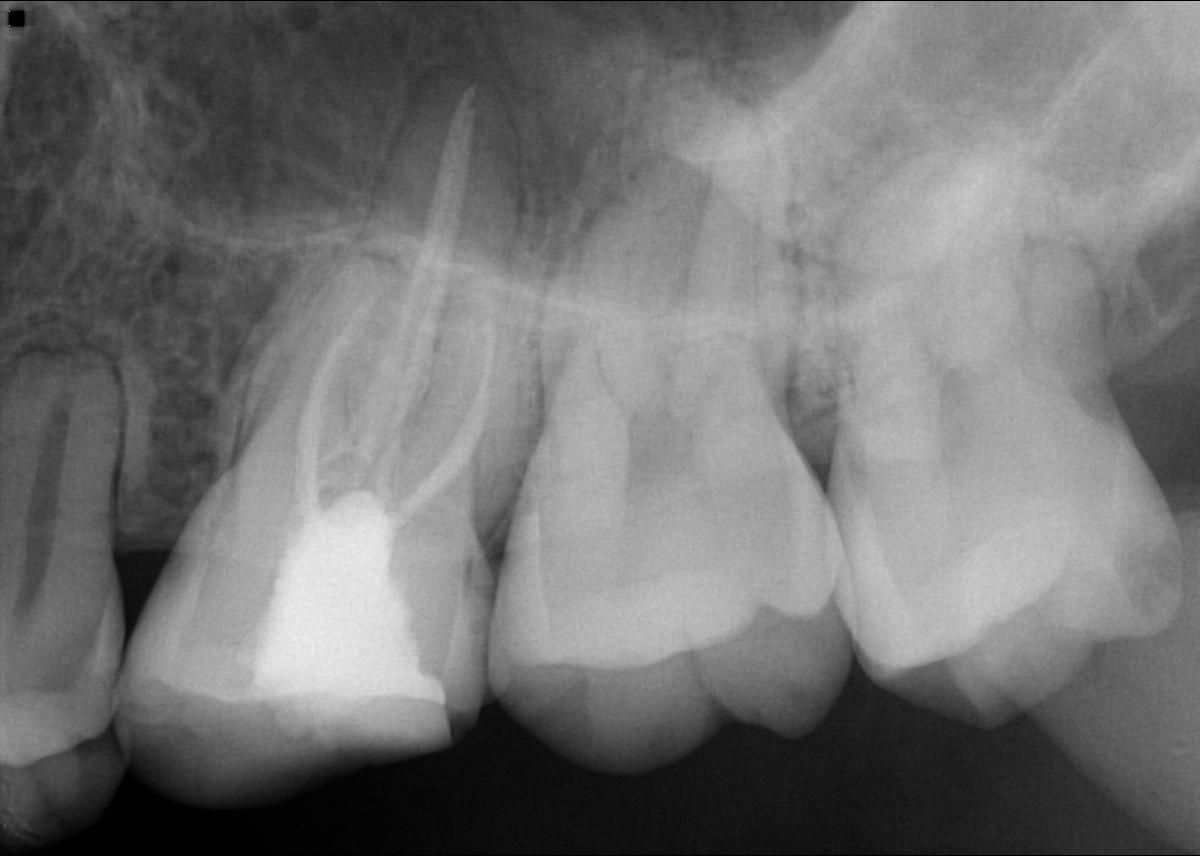Furcation Involvement: (12, 330, 128, 395)
